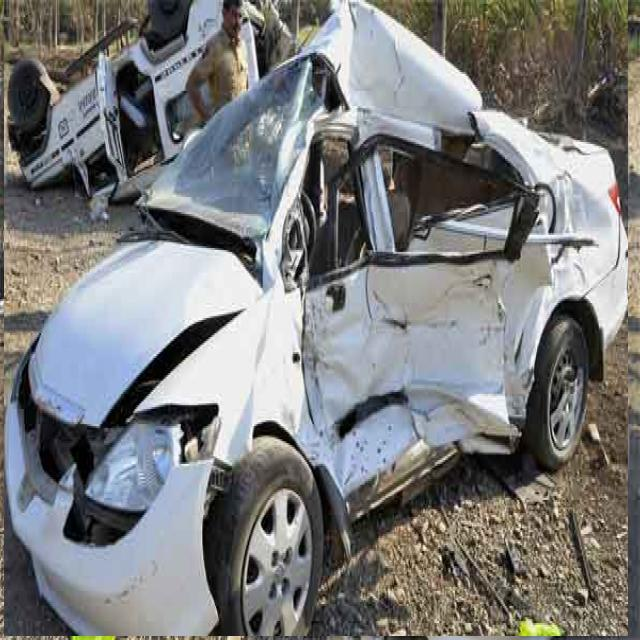accident: (5, 0, 628, 636), (411, 0, 640, 196)
